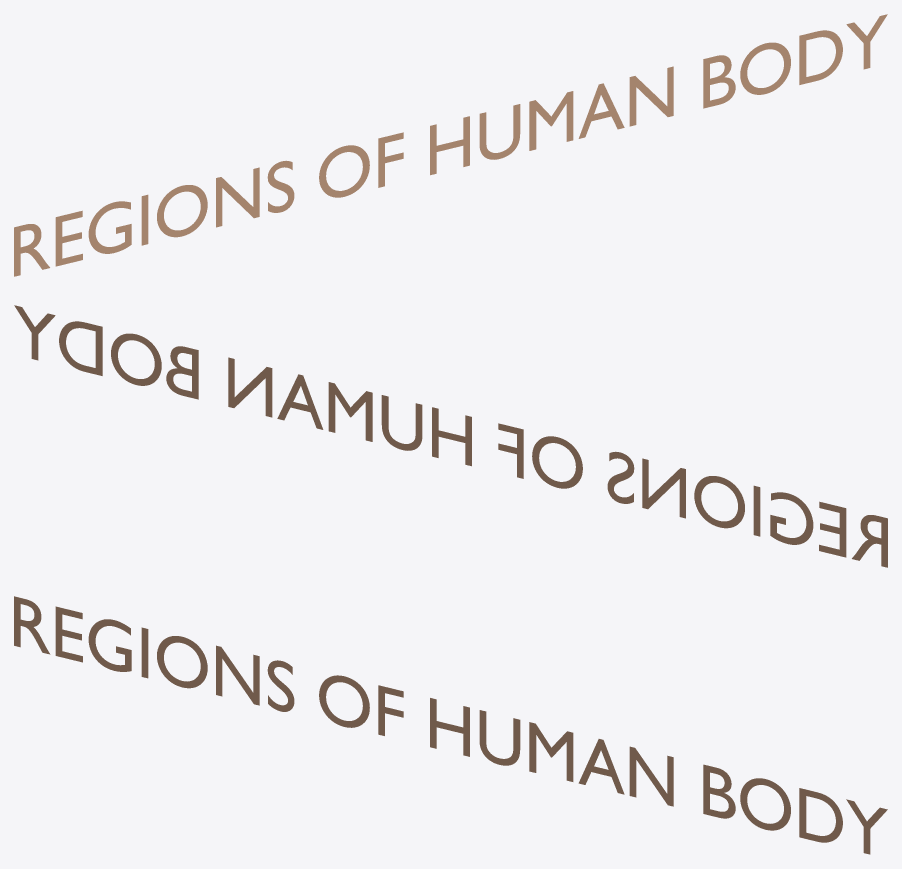
Rendered from regions-of-human-body-g.glb.
3 renders of one model, top to bottom at view 1: azimuth 30°, elevation 25°; view 2: azimuth 150°, elevation 25°; view 3: azimuth 330°, elevation 25°, orthographic.
Visible parts, largest first — view 1: Regions of human body.g; view 2: Regions of human body.g; view 3: Regions of human body.g.
Boxes of the visible parts, bbox=[...] form: Regions of human body.g: bbox=[14, 14, 887, 276]; Regions of human body.g: bbox=[14, 305, 887, 567]; Regions of human body.g: bbox=[14, 596, 887, 854].
Size of the model in its own units: 0.6306 by 0.035 by 0.
